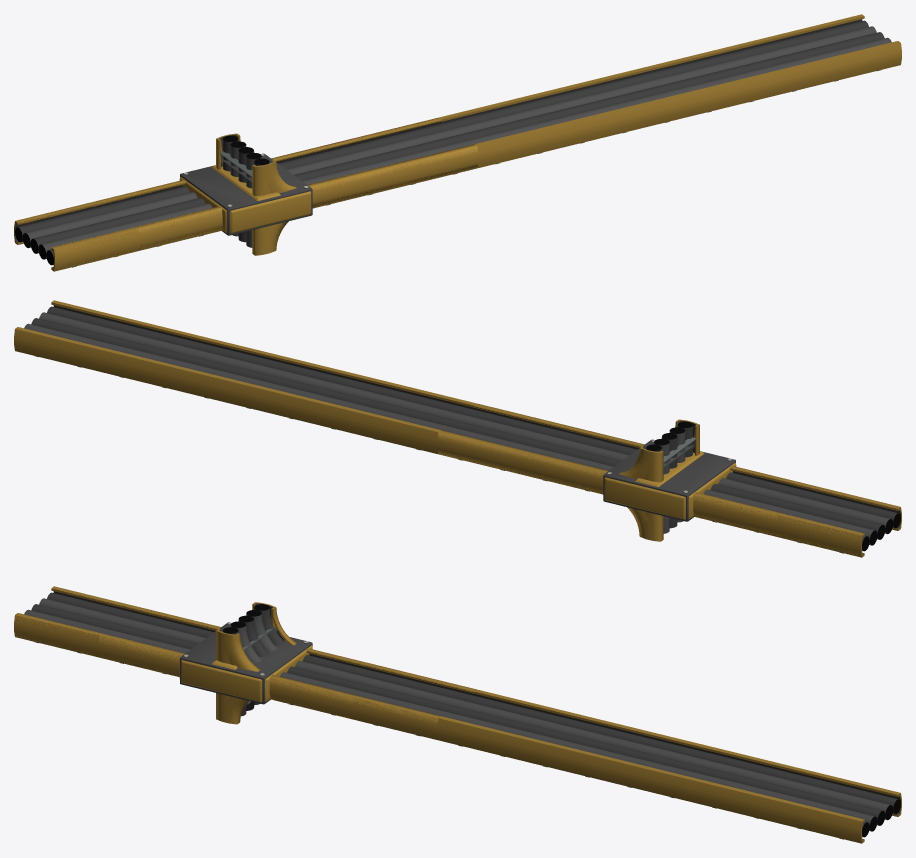
File: CableTray.fbx
3 views of the same model, one above another, from view 1: azimuth 30°, elevation 25°; view 2: azimuth 150°, elevation 25°; view 3: azimuth 330°, elevation 25° (orthographic).
Parts seen in each view (by area): view 1: CableTrayStaight10, CableTrayStraight5, CableTrayJunctionBox4, CableTrayStraight3, CableTrayJunctionBox5Up, CableTrayCurveVertical2, CableTrayHalfVertical; view 2: CableTrayStaight10, CableTrayStraight5, CableTrayStraight3, CableTrayJunctionBox4, CableTrayJunctionBox5Up, CableTrayCurveVertical2, CableTrayHalfVertical; view 3: CableTrayStaight10, CableTrayStraight5, CableTrayStraight3, CableTrayJunctionBox4, CableTrayCurveVertical2, CableTrayJunctionBox5Up, CableTrayCurveVertical.
Part boxes in pixels (x1,y1,x2,y2): CableTrayStaight10: (14, 14, 901, 271); CableTrayStraight5: (15, 117, 477, 270); CableTrayJunctionBox4: (179, 153, 312, 235); CableTrayStraight3: (100, 138, 393, 248); CableTrayJunctionBox5Up: (216, 134, 275, 196); CableTrayCurveVertical2: (216, 133, 296, 193); CableTrayHalfVertical: (232, 225, 270, 255); CableTrayStaight10: (14, 300, 901, 557); CableTrayStraight5: (437, 403, 900, 556); CableTrayStraight3: (522, 424, 815, 534); CableTrayJunctionBox4: (603, 439, 736, 521); CableTrayJunctionBox5Up: (640, 420, 699, 482); CableTrayCurveVertical2: (619, 419, 699, 479); CableTrayHalfVertical: (645, 511, 682, 541); CableTrayStaight10: (14, 586, 901, 843); CableTrayStraight5: (14, 587, 476, 732); CableTrayStraight3: (98, 607, 391, 718); CableTrayJunctionBox4: (179, 622, 312, 704); CableTrayCurveVertical2: (216, 602, 296, 671); CableTrayJunctionBox5Up: (216, 602, 276, 664); CableTrayCurveVertical: (222, 696, 259, 724).
Size of the model in its own units: 0.52 by 0.5 by 5.
